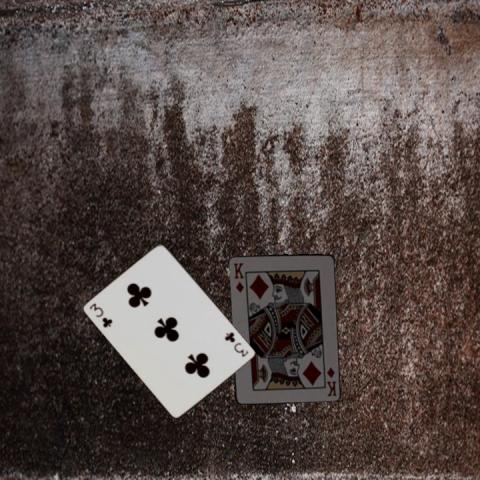3c: (222, 329, 250, 358), (87, 300, 114, 329)
Kd: (230, 260, 245, 294), (323, 364, 338, 397)
